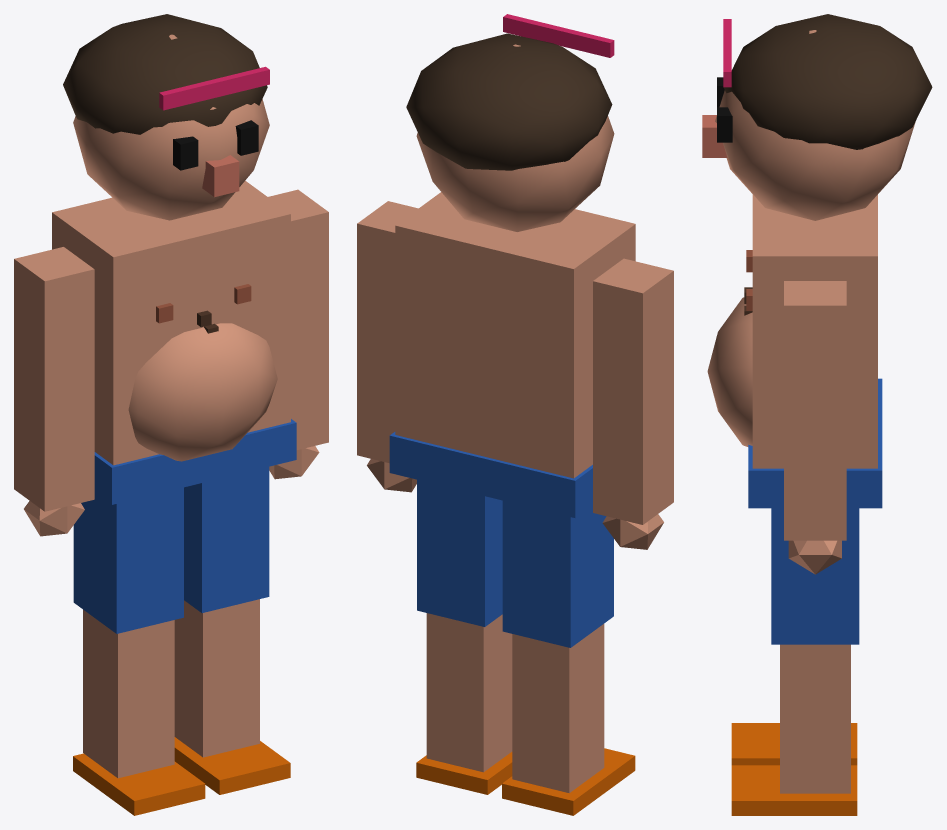
The model's file is gary.glb.
3 views of the same model, side by side, from view 1: azimuth 30°, elevation 25°; view 2: azimuth 150°, elevation 25°; view 3: azimuth 270°, elevation 25° (orthographic). The views are drawn at different scales.
Parts seen in each view (by area): view 1: torso, head, legR, legL, armR, armL; view 2: torso, head, legR, legL, armR, armL; view 3: head, torso, legL, armL, legR.
Part boxes in pixels (x1,y1,x2,y2): torso: (52,180,296,504); head: (63,14,269,220); legR: (73,487,205,815); legL: (174,466,290,794); armR: (14,247,94,536); armL: (268,189,328,479); torso: (389,192,635,518); head: (406,14,614,231); legR: (502,500,635,815); legL: (416,479,512,794); armR: (593,258,673,549); armL: (357,201,418,492); head: (702,14,932,220); torso: (707,194,882,508); legL: (731,508,859,815); armL: (784,281,846,574); legR: (731,723,857,765).
Size of what is drawn, in the model's own units: 0.8 by 1.98 by 0.55.
